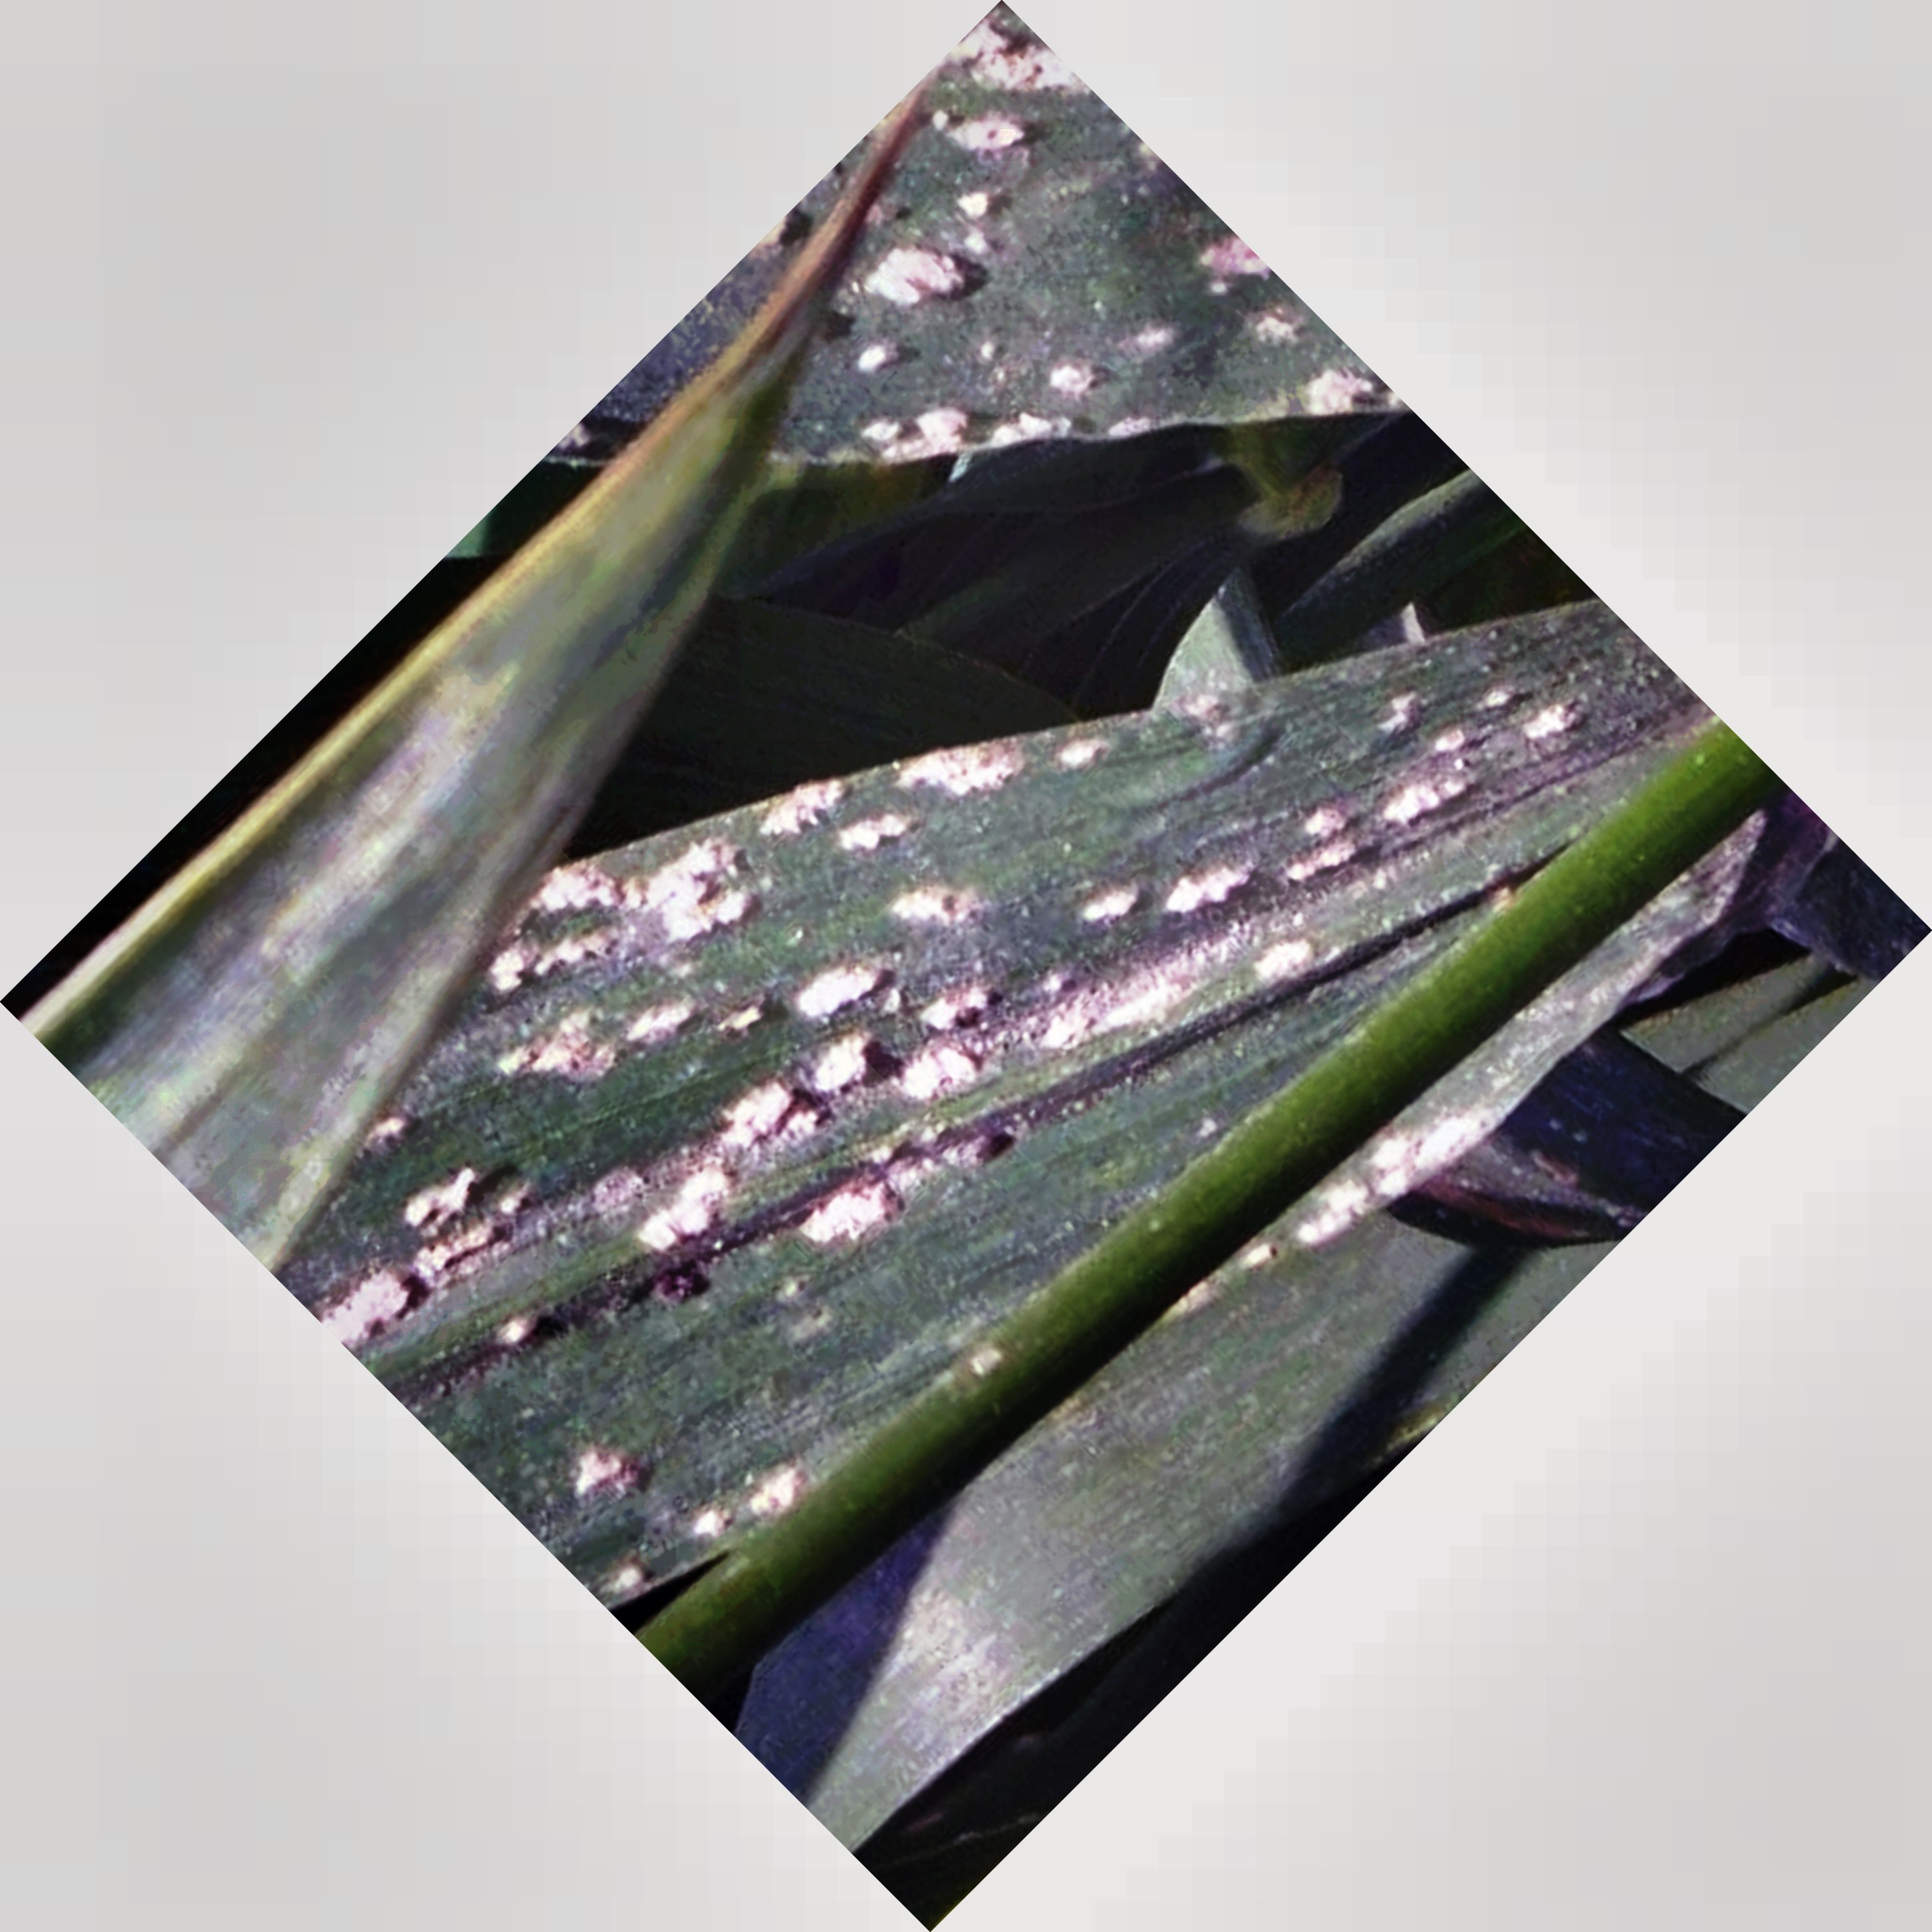Powdery Mildew: (430, 584, 1449, 1407)
